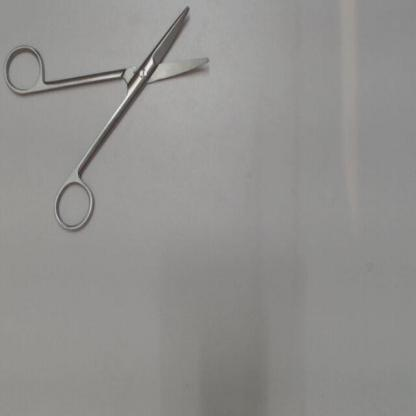Curved Mayo Scissors: (1, 4, 217, 238)
